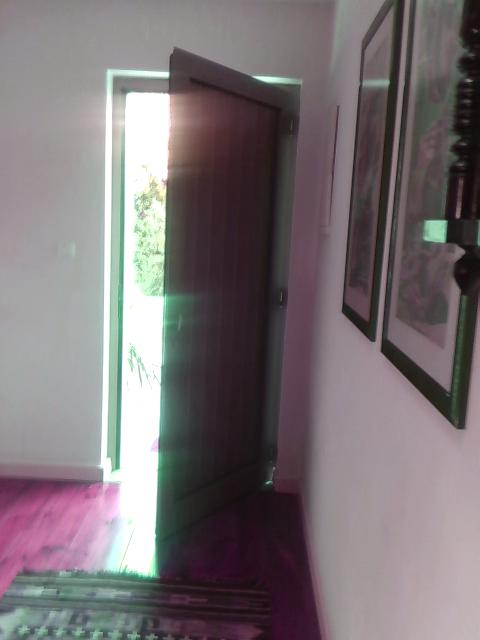semi_door: (108, 46, 301, 538)
